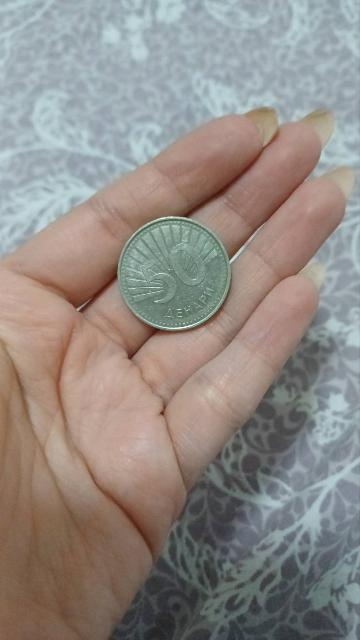coin: (118, 217, 230, 330)
